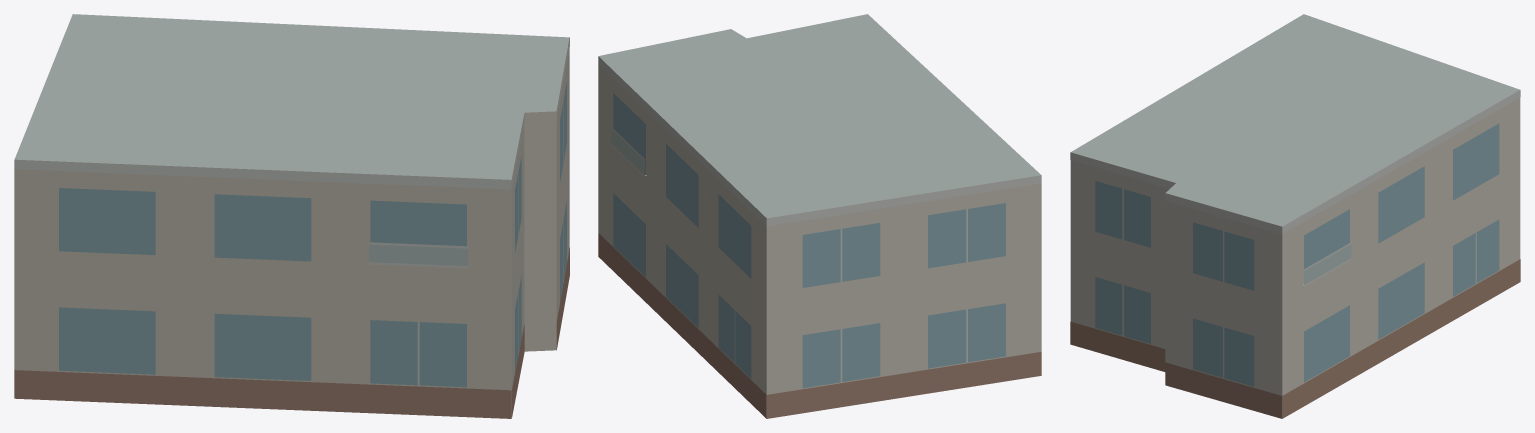
File: survey-upis-32591447.glb
The picture shows the model from 3 angles, left to right: view 1: azimuth 30°, elevation 25°; view 2: azimuth 150°, elevation 25°; view 3: azimuth 270°, elevation 25°; orthographic projection. The views are drawn at different scales.
Parts seen in each view (by area): view 1: survey-upis-32591447.tmp; view 2: survey-upis-32591447.tmp; view 3: survey-upis-32591447.tmp.
Boxes of the visible parts, x1,y1,x2,y2 form: survey-upis-32591447.tmp: (14, 14, 569, 418); survey-upis-32591447.tmp: (598, 14, 1041, 418); survey-upis-32591447.tmp: (1070, 14, 1520, 418).
Size of the model in its own units: 14.48 by 6.1 by 12.95.
